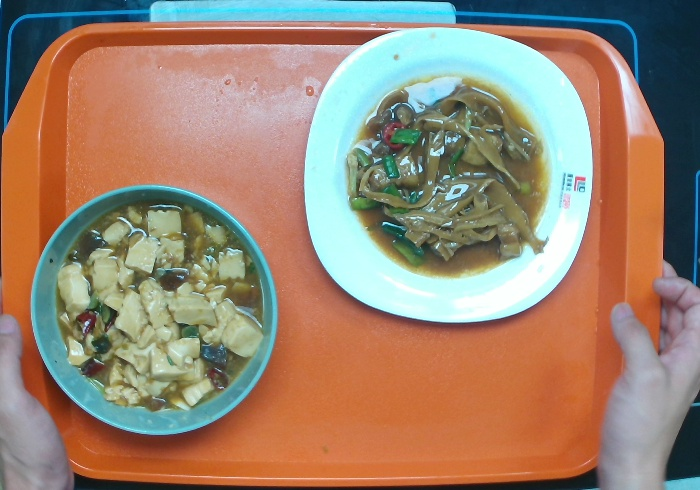ZNLD-Qing_Hua_Yuan_Wan: (26, 178, 281, 443)
ZNLD-Yuan_Jiao_Pan: (301, 20, 599, 336)
